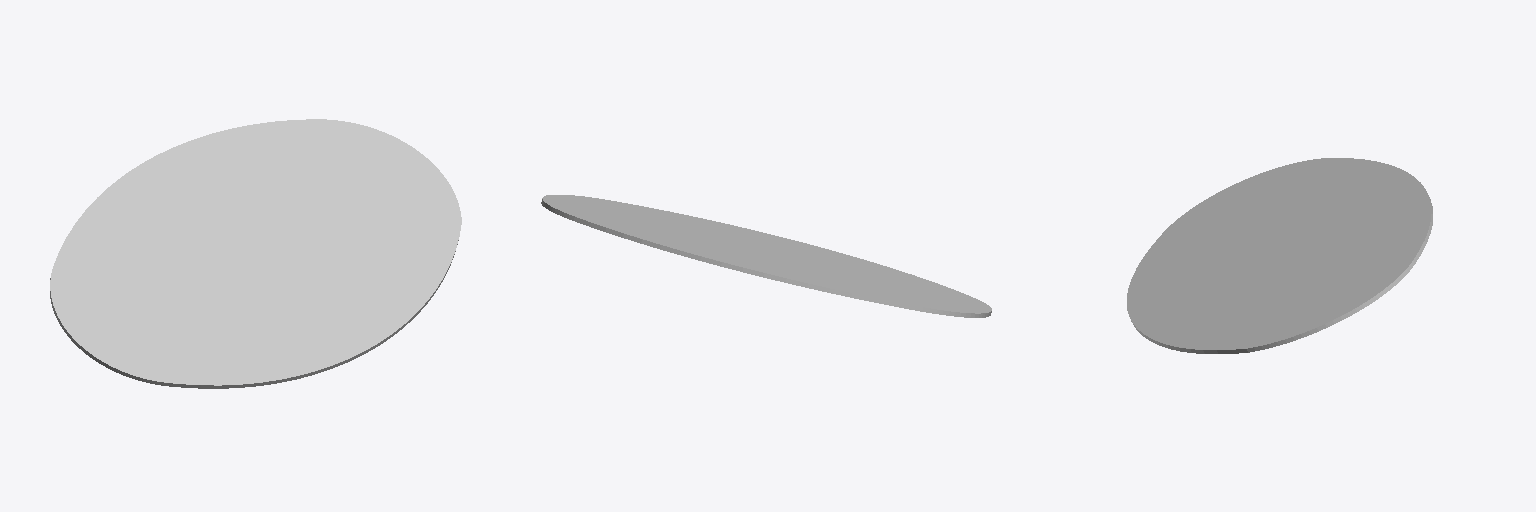
3 views of the same model, side by side, from view 1: azimuth 30°, elevation 25°; view 2: azimuth 150°, elevation 25°; view 3: azimuth 270°, elevation 25° (orthographic).
Parts seen in each view (by area): view 1: 设计2\实体; view 2: 设计2\实体; view 3: 设计2\实体.
Part boxes in pixels (x1,y1,x2,y2): 设计2\实体: (50,119,461,388); 设计2\实体: (541,195,991,317); 设计2\实体: (1127,158,1432,353).
Size of the model in its own units: 710 by 202 by 470.